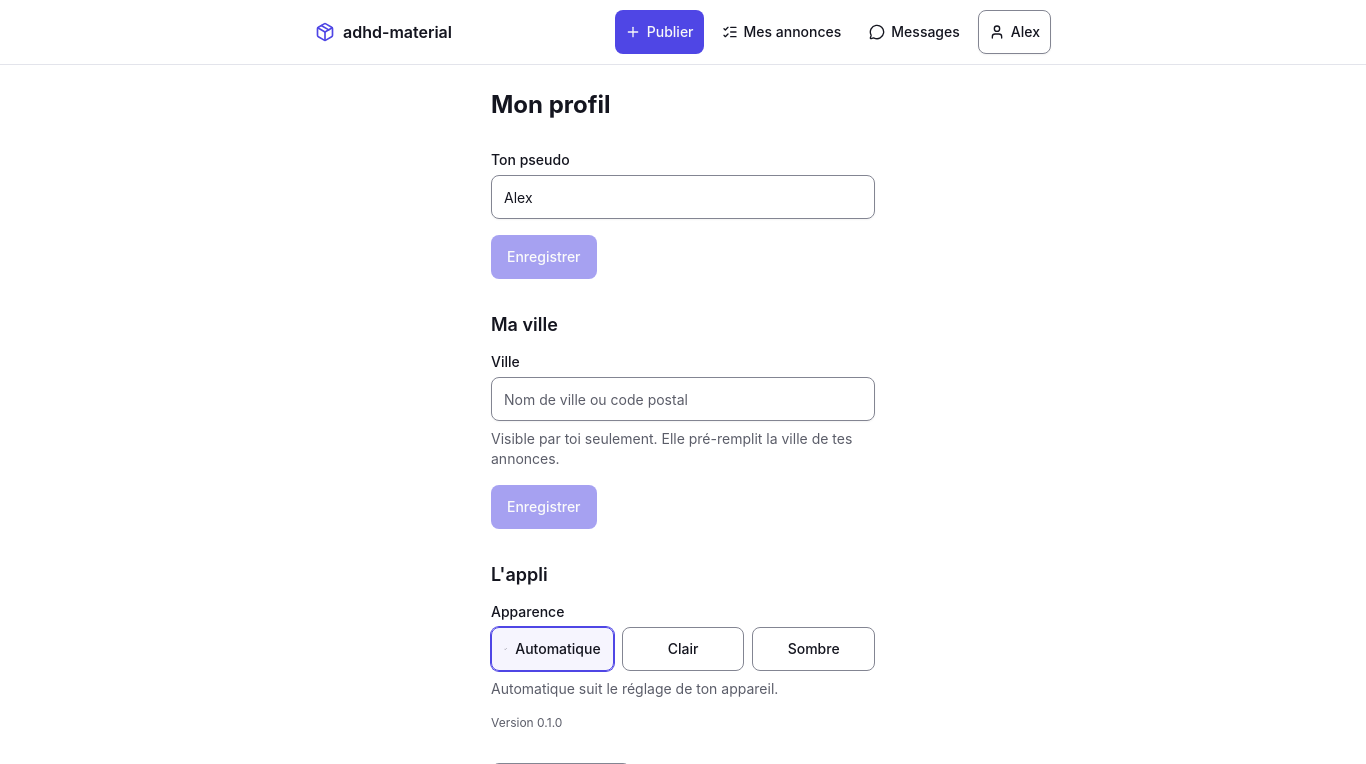
Scenario: section « Ma ville » du profil › enregistre une nouvelle ville et garde le focus dans le champ
Type "Alb" into the dropdown labelled "Ville". click: {"x": 683, "y": 399}
box: 491,377 -> 875,421
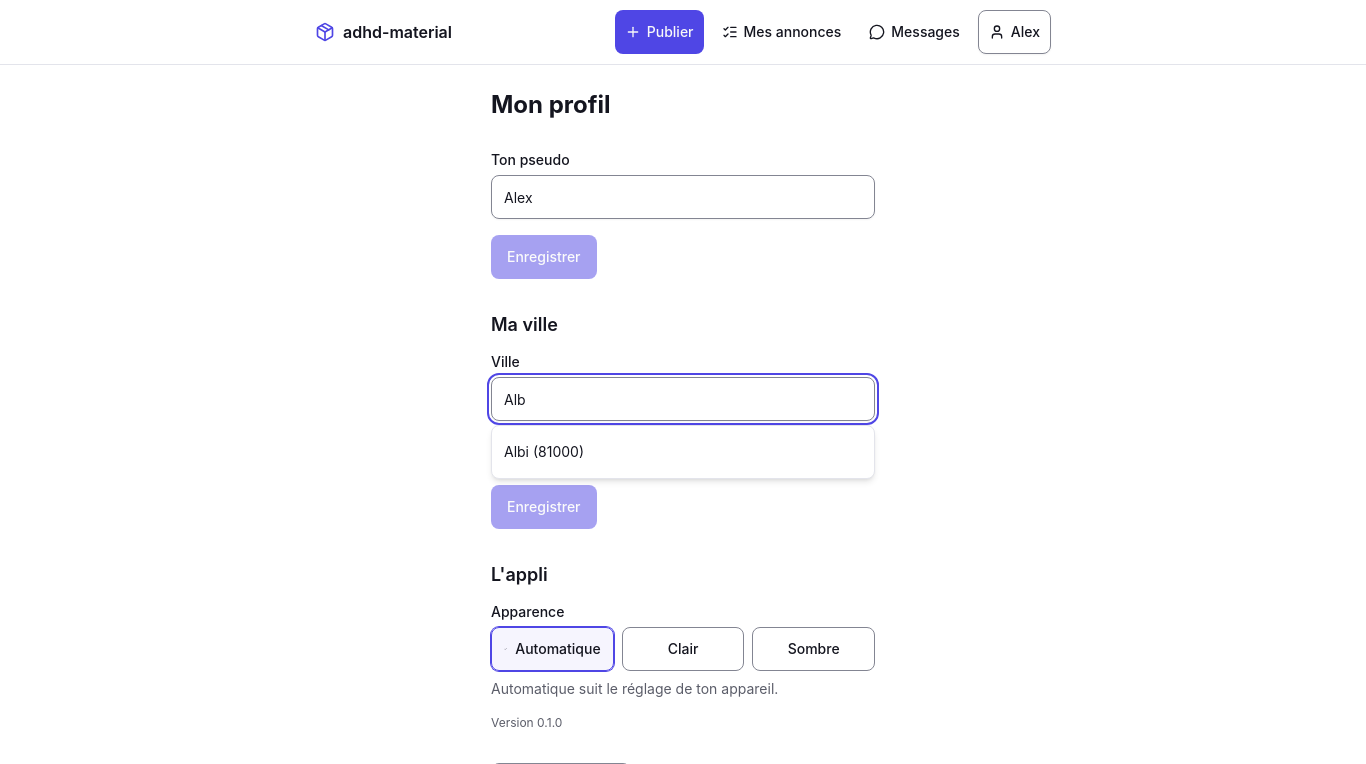
Click the option "Albi (81000)". click: {"x": 544, "y": 452}
box: 504,443 -> 584,460
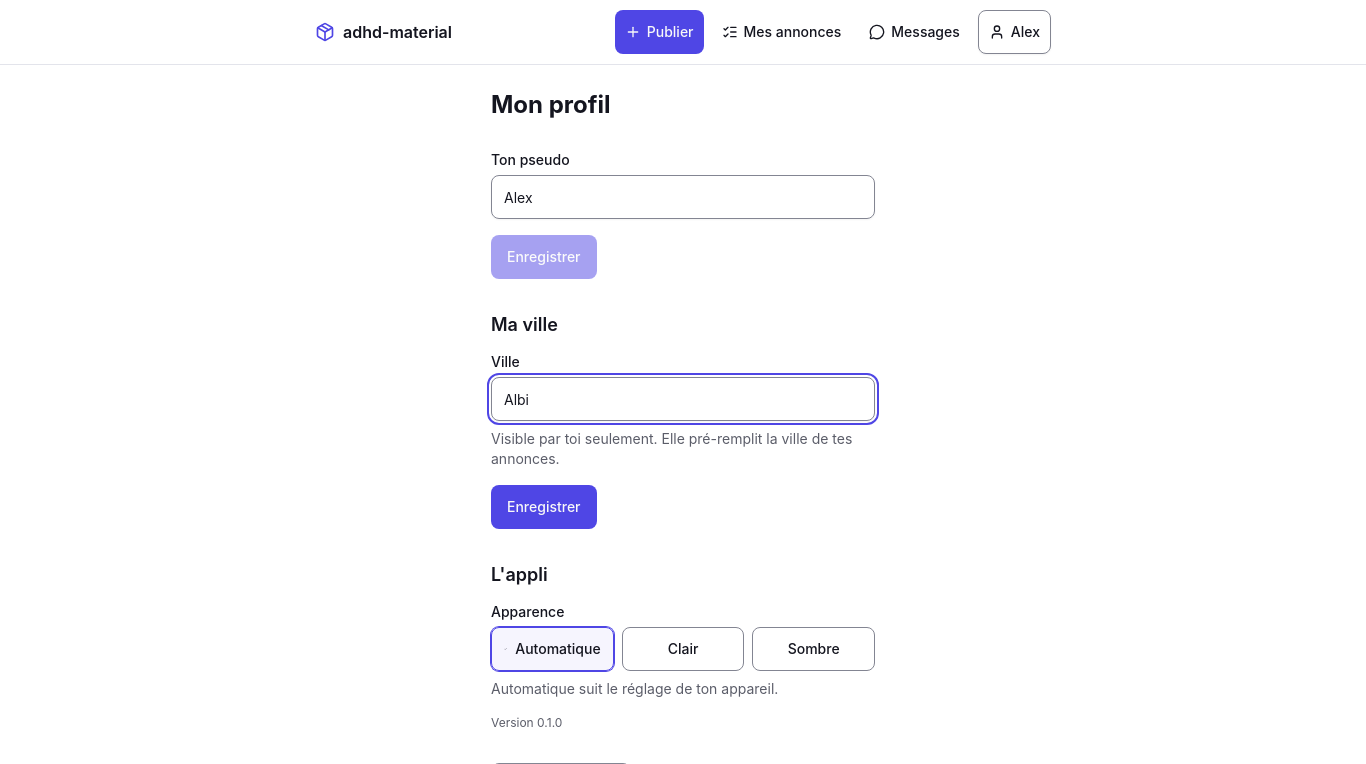
Now the list "Albi (81000)" is gone
Click the button "Enregistrer" below "Ma ville". click: {"x": 544, "y": 507}
box: 491,485 -> 596,529
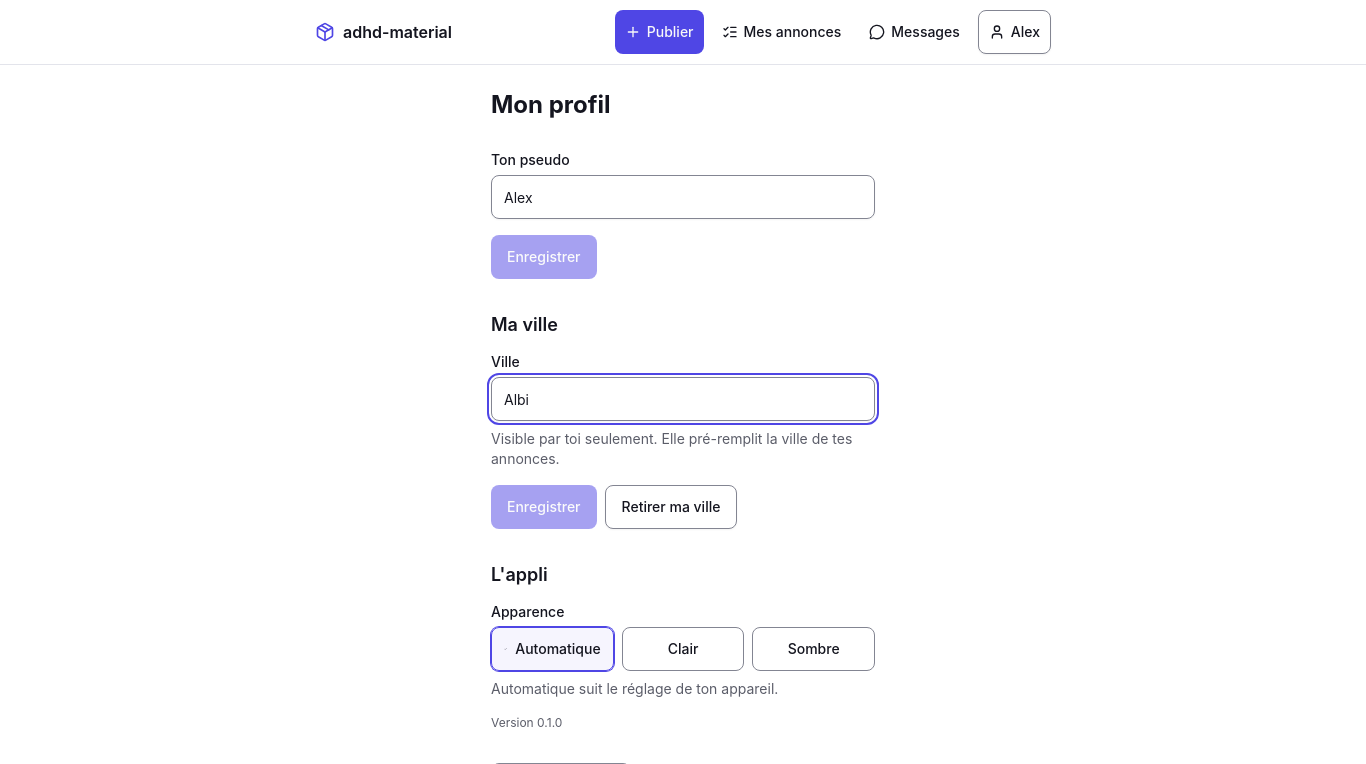
Now the dropdown labelled "Ville" holds "Albi", box 491,377 -> 875,421
Now the button "Retirer ma ville" is shown, box 604,485 -> 737,529
Now the 2nd button "Enregistrer" is disabled, box 491,485 -> 596,529
